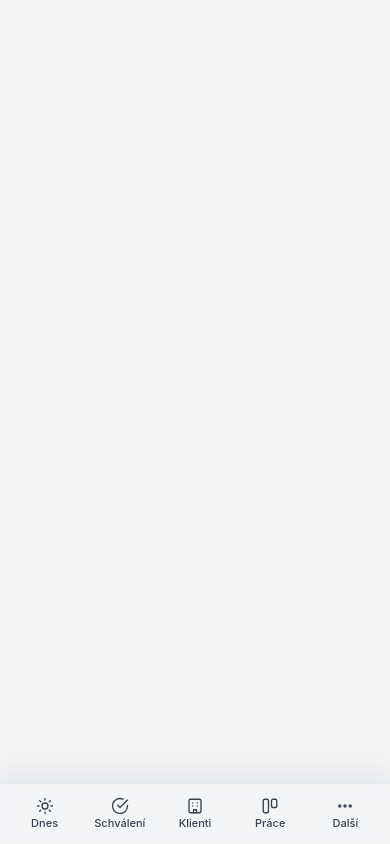
Test: spodní lišta na mobilu › tlačítko Zavřít panel zavře
The image size is (390, 844).
Click the button "Další": coordinates (345, 814) [309,790,382,838]
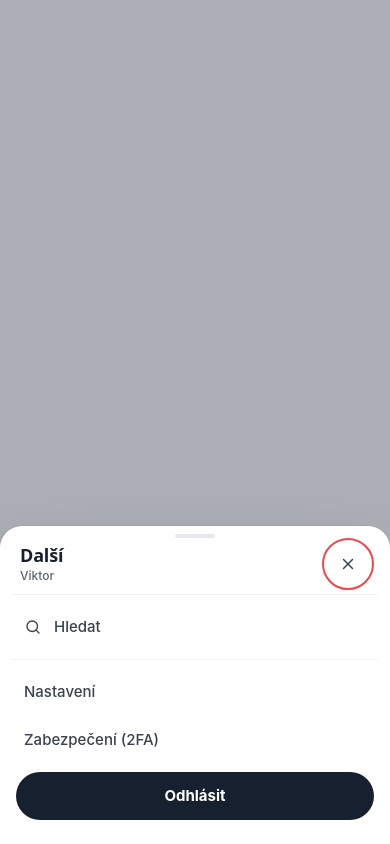
Click the button named "Zavřít": coordinates (348, 564) [326,542,370,586]
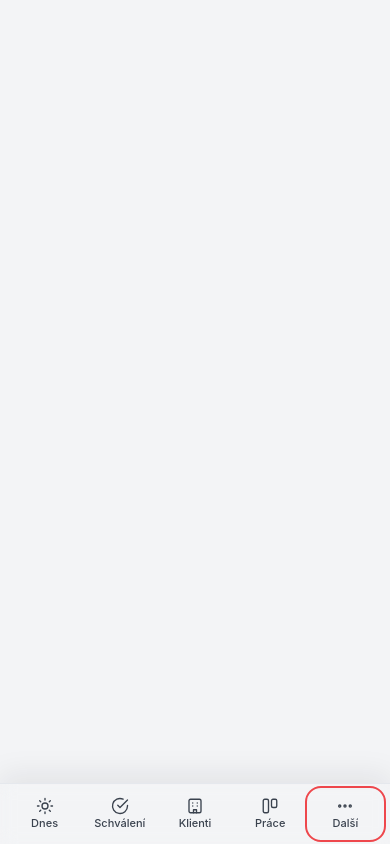
Result: the button "Hledat" is gone
